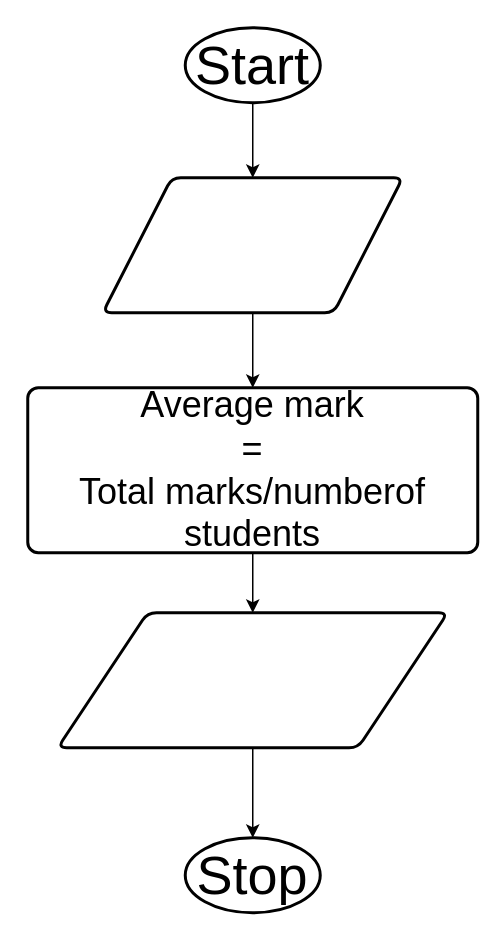
The diagram is 504 pixels wide and 939 high, and some of its shapes have lost their labels. Here are the shapes that lost their labels. From the top down, the box of each, then its label:
(100, 176, 404, 314): Enter results
(56, 610, 448, 748): Display Average
